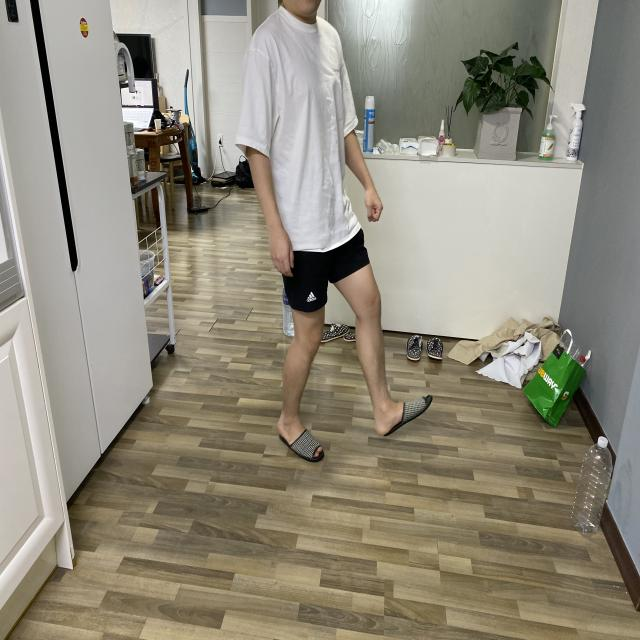no-boots: (272, 409, 334, 479), (363, 390, 449, 430)
